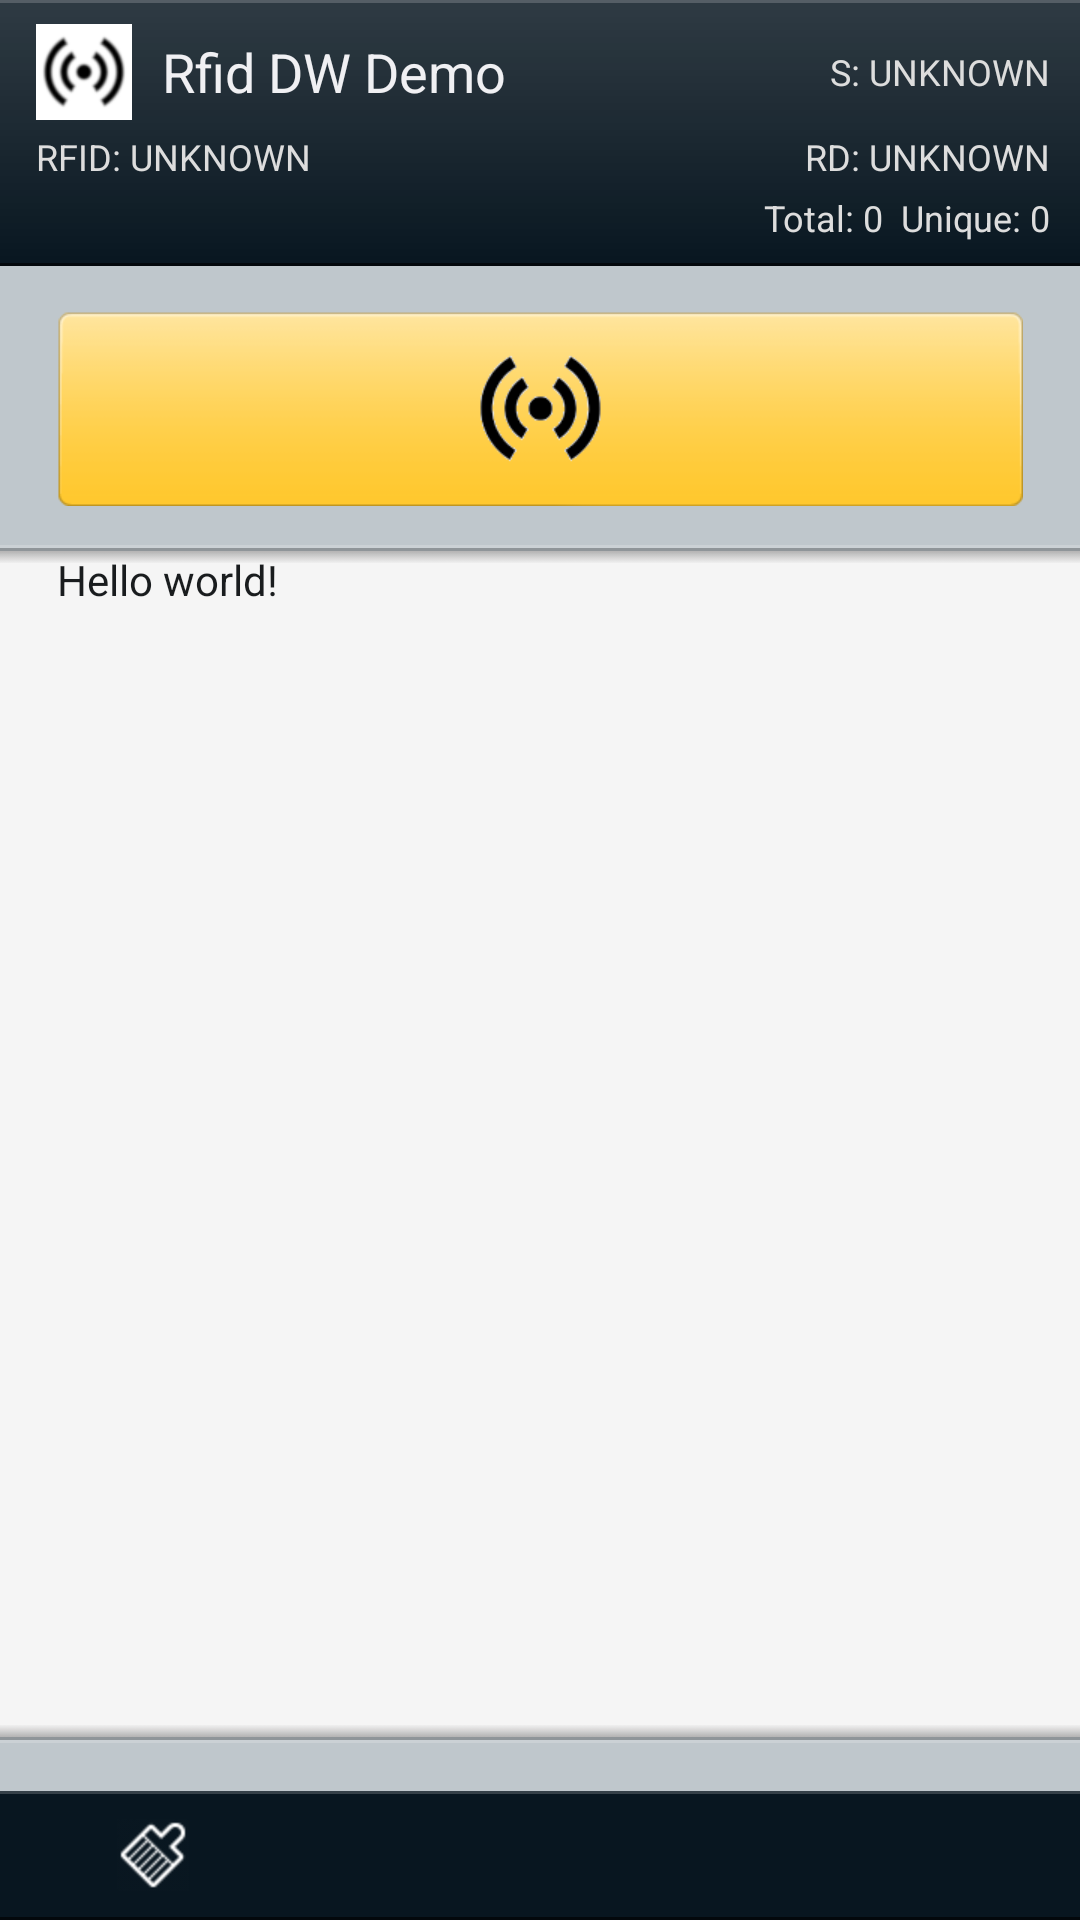

Icons on this 1080×1920 Android screen, each with its box as box=[x1, y1, x2, y2]:
clear: box=[120, 1822, 186, 1888]
